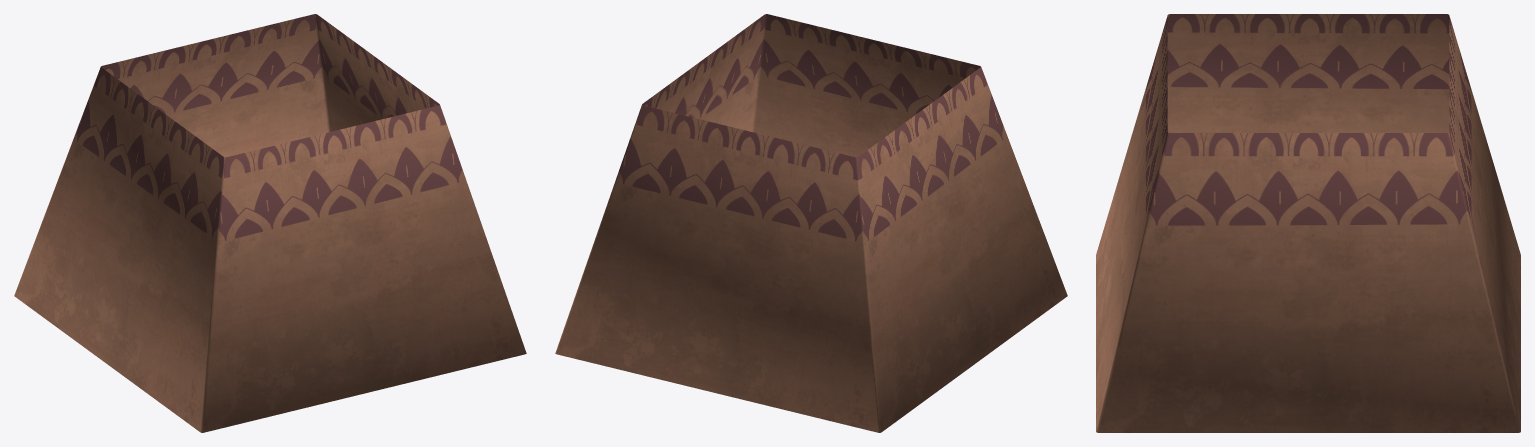
The model's file is templepart4.fbx.
3 views of the same model, side by side, from view 1: azimuth 30°, elevation 25°; view 2: azimuth 150°, elevation 25°; view 3: azimuth 270°, elevation 25° (orthographic). The views are drawn at different scales.
Parts seen in each view (by area): view 1: Pyramid002; view 2: Pyramid002; view 3: Pyramid002.
Boxes of the visible parts, box(x1,y1,x2,y2) form: Pyramid002: box(14, 14, 526, 432); Pyramid002: box(555, 14, 1067, 432); Pyramid002: box(1096, 14, 1520, 432).
Bounding box in the file's own units: 7456 × 7456 × 5224.
